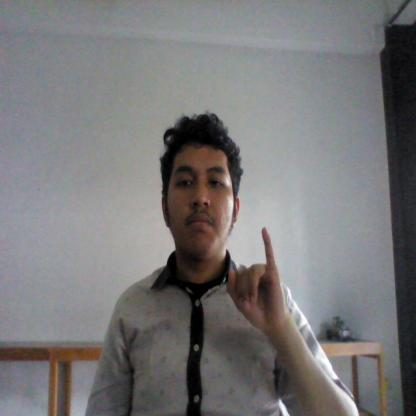I: (226, 220, 288, 338)
